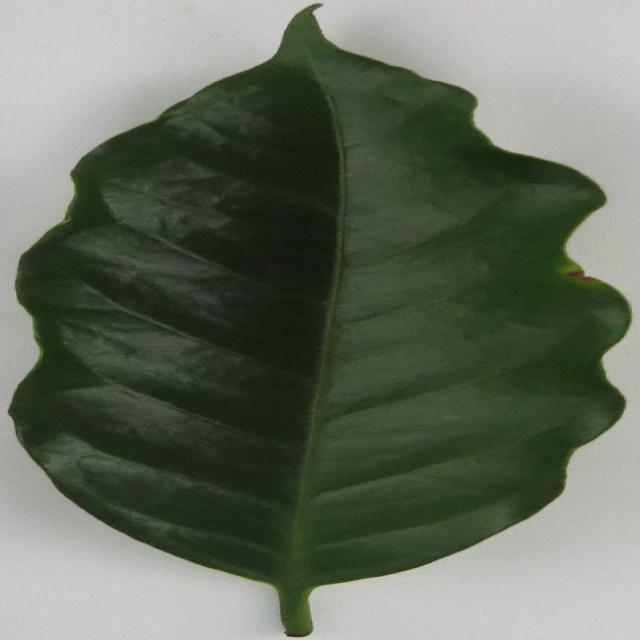DeficienciaNutricional-Calcio: (13, 9, 627, 636)
